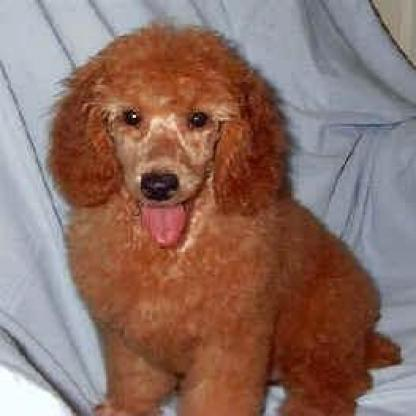miniature_poodle: (43, 13, 403, 413)
